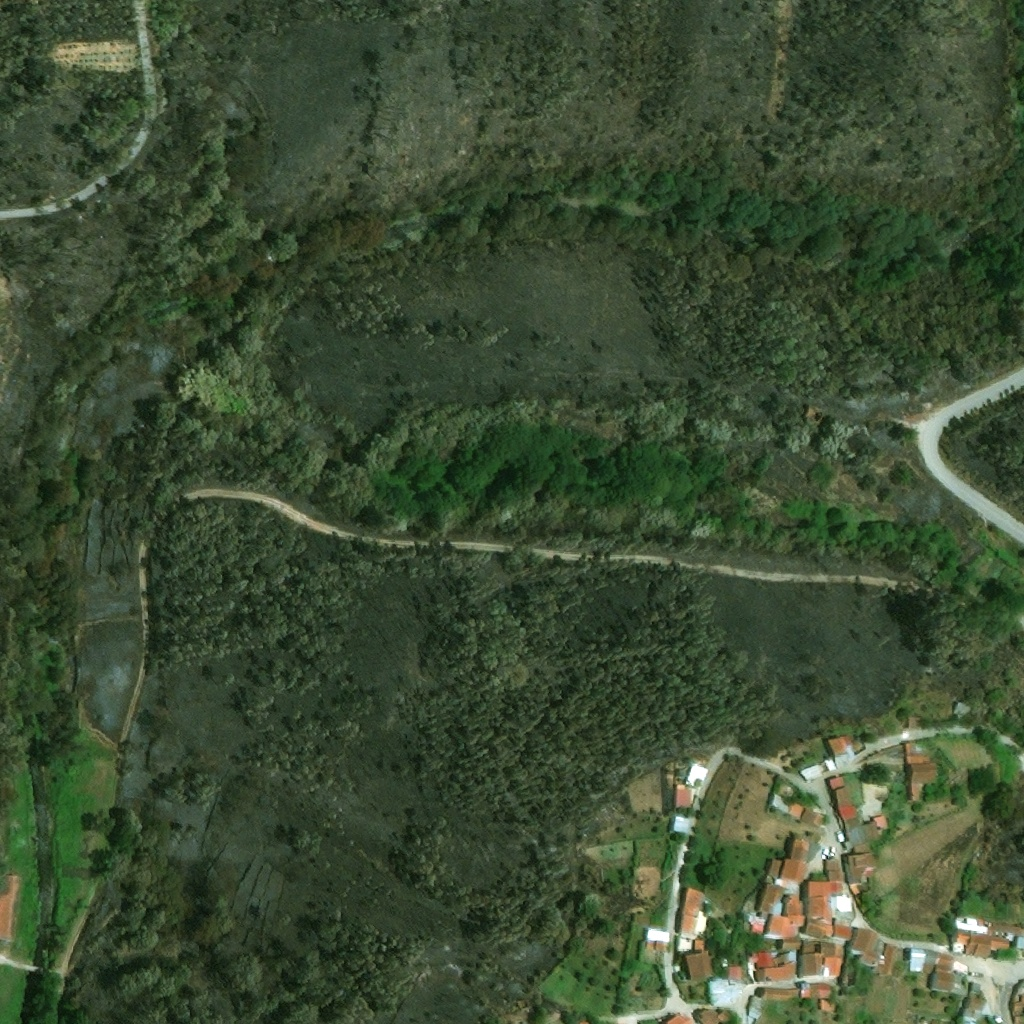0 no-damage: (737, 835, 820, 940), (825, 777, 889, 853), (797, 859, 852, 941), (950, 915, 1023, 959), (797, 734, 862, 783), (901, 743, 949, 801), (848, 929, 900, 978), (749, 938, 801, 983), (924, 952, 970, 1000), (675, 888, 708, 953), (706, 957, 745, 1006), (801, 939, 845, 979), (748, 988, 797, 1019), (961, 983, 991, 1023), (684, 939, 712, 981), (843, 853, 874, 887), (800, 984, 835, 1014), (0, 890, 19, 942), (768, 794, 802, 820), (683, 762, 708, 787), (773, 777, 797, 802), (644, 929, 670, 950), (694, 1009, 733, 1023), (668, 815, 689, 837), (908, 948, 926, 973), (832, 919, 852, 941), (800, 810, 823, 828), (674, 786, 691, 810), (951, 703, 970, 721), (664, 1014, 689, 1023)
3 destroyed: (794, 404, 820, 427)
4 un-classified: (1010, 980, 1023, 1016)
